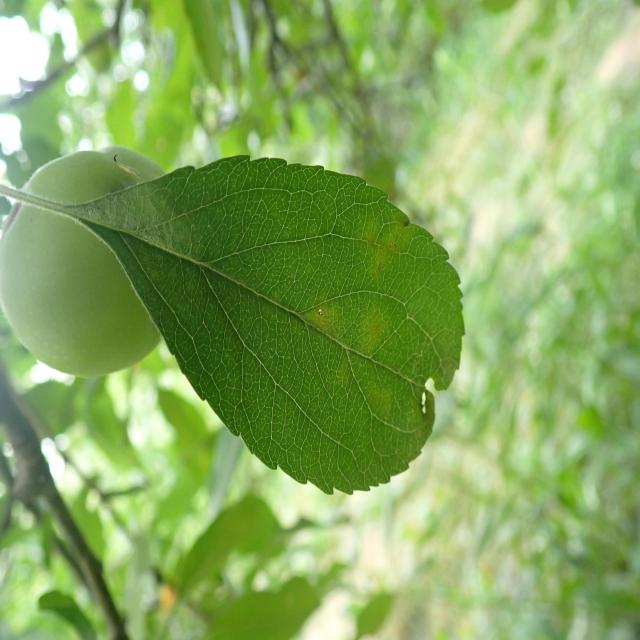scab: (283, 201, 431, 475)
